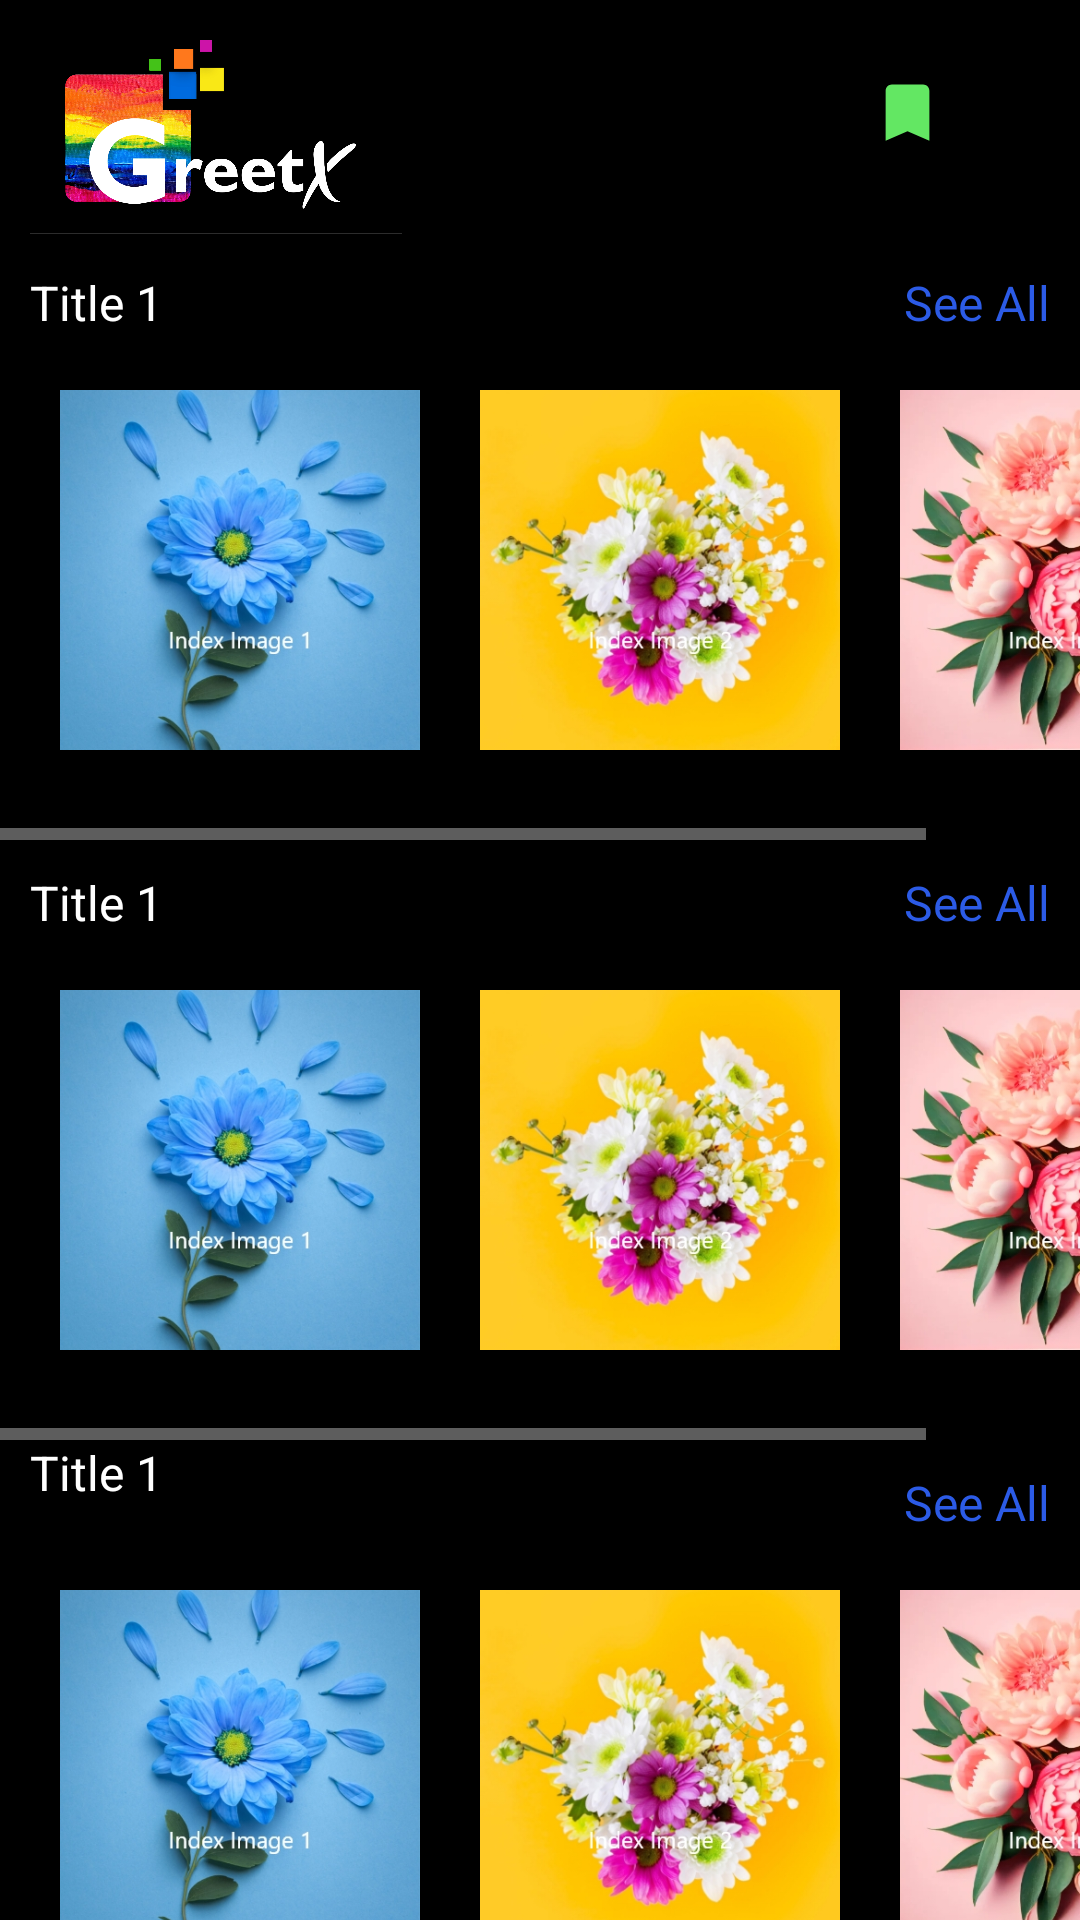

Screen size 1080 × 1920. Icon name, then its box in pixels as {"x1": x1, "y1": y1, "x2": x2, "y2": y2}:
bookmark: {"x1": 885, "y1": 84, "x2": 930, "y2": 141}
